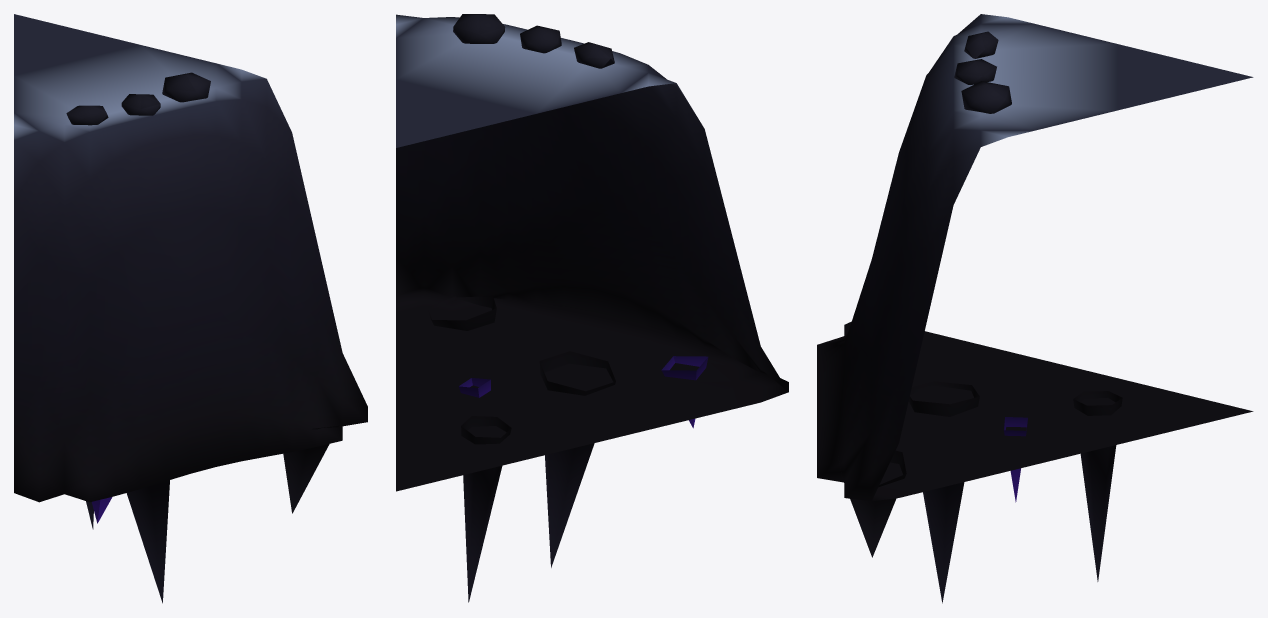
Rendered from MODULE_HOLLOW_IN.fbx.
3 views of the same model, side by side, from view 1: azimuth 30°, elevation 25°; view 2: azimuth 150°, elevation 25°; view 3: azimuth 270°, elevation 25° (orthographic). The views are drawn at different scales.
Parts seen in each view (by area): view 1: MODULE_HOLLOW_IN__export, MODULE_HOLLOW_IN_DECOR__export; view 2: MODULE_HOLLOW_IN__export, MODULE_HOLLOW_IN_DECOR__export; view 3: MODULE_HOLLOW_IN__export, MODULE_HOLLOW_IN_DECOR__export.
Boxes of the visible parts, x1,y1,x2,y2 form: MODULE_HOLLOW_IN__export: (14, 14, 367, 502); MODULE_HOLLOW_IN_DECOR__export: (66, 72, 339, 603); MODULE_HOLLOW_IN__export: (396, 14, 788, 491); MODULE_HOLLOW_IN_DECOR__export: (427, 14, 708, 602); MODULE_HOLLOW_IN__export: (817, 14, 1253, 501); MODULE_HOLLOW_IN_DECOR__export: (838, 31, 1122, 603).
Bounding box in the file's own units: 58.33 × 79.18 × 57.74.
